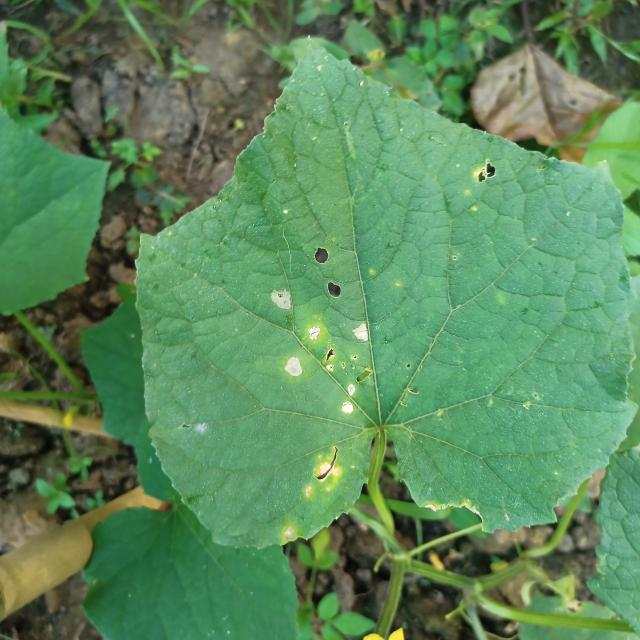disease_cucumber: (262, 285, 384, 428)
